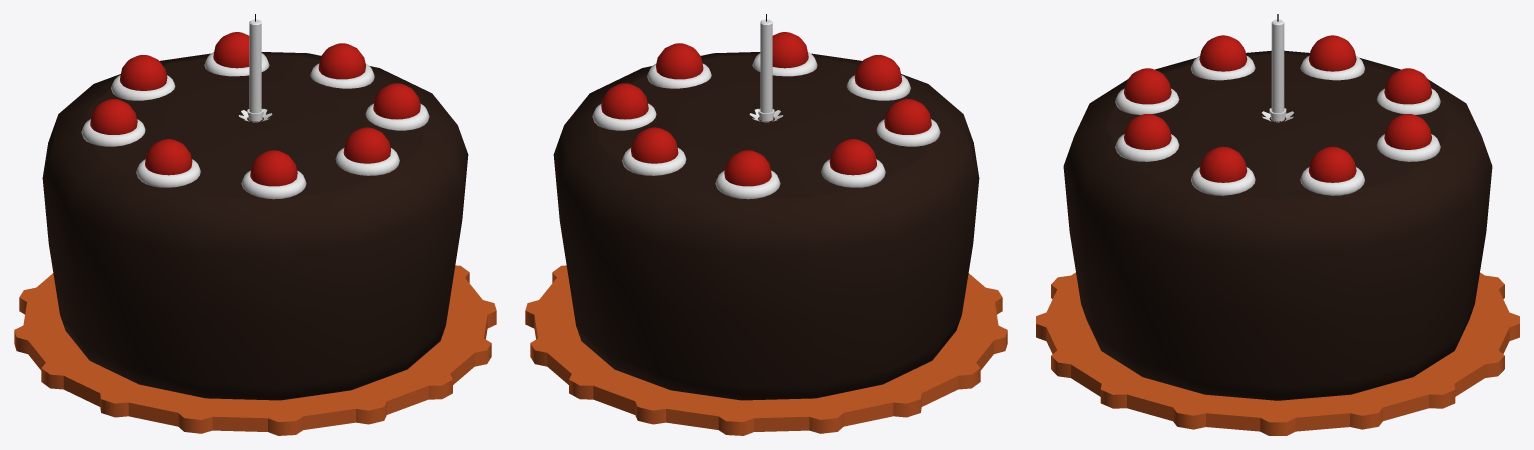
Rendered from Gateau_uvw.fbx.
3 renders of one model, left to right at view 1: azimuth 30°, elevation 25°; view 2: azimuth 150°, elevation 25°; view 3: azimuth 270°, elevation 25°, orthographic.
Visible parts, largest first — view 1: Cylinder004, Cylinder005, Sphere001, Torus001, Cylinder006; view 2: Cylinder004, Cylinder005, Sphere001, Torus001, Cylinder006; view 3: Cylinder004, Cylinder005, Sphere001, Torus001, Cylinder006.
Boxes of the visible parts, box(x1,y1,x2,y2) form: Cylinder004: box(42, 52, 468, 400); Cylinder005: box(14, 265, 496, 435); Sphere001: box(90, 32, 420, 186); Torus001: box(81, 52, 429, 199); Cylinder006: box(247, 14, 263, 121); Cylinder004: box(553, 52, 979, 400); Cylinder005: box(525, 265, 1007, 435); Sphere001: box(601, 32, 931, 186); Torus001: box(592, 52, 940, 199); Cylinder006: box(758, 14, 774, 121); Cylinder004: box(1063, 50, 1492, 400); Cylinder005: box(1036, 272, 1519, 435); Sphere001: box(1124, 35, 1431, 182); Torus001: box(1115, 56, 1440, 195); Cylinder006: box(1269, 14, 1286, 121).
Bounding box in the file's own units: 99.54 × 72.53 × 99.54.
